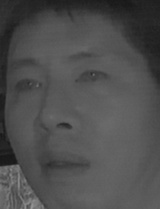eye: (74, 65, 110, 87), (12, 75, 43, 96)
mouth: (37, 147, 91, 178)
